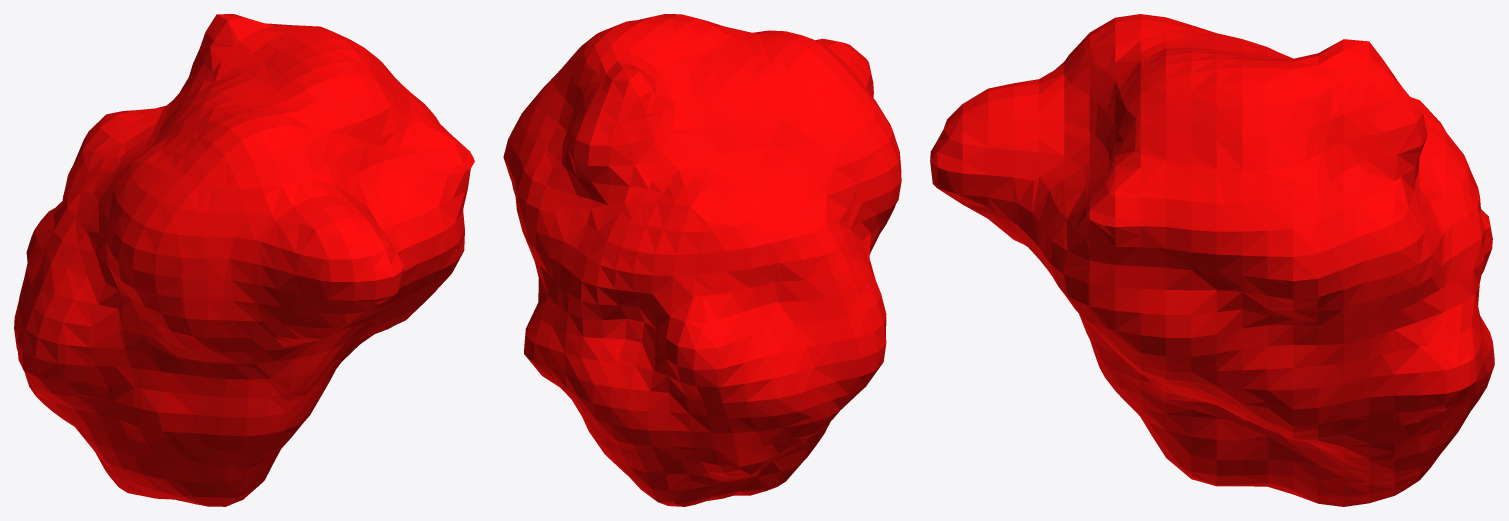
Rendered from hemG_coarse.dae.
3 renders of one model, left to right at view 1: azimuth 30°, elevation 25°; view 2: azimuth 150°, elevation 25°; view 3: azimuth 270°, elevation 25°, orthographic. The views are drawn at different scales.
Visible parts, largest first — view 1: hemG; view 2: hemG; view 3: hemG.
Part boxes in pixels (box(x1,y1,x2,y2)): hemG: box(14, 14, 474, 506); hemG: box(503, 14, 901, 506); hemG: box(930, 14, 1494, 506).
Size of the model in its own units: 43.14 by 46.61 by 48.21.
